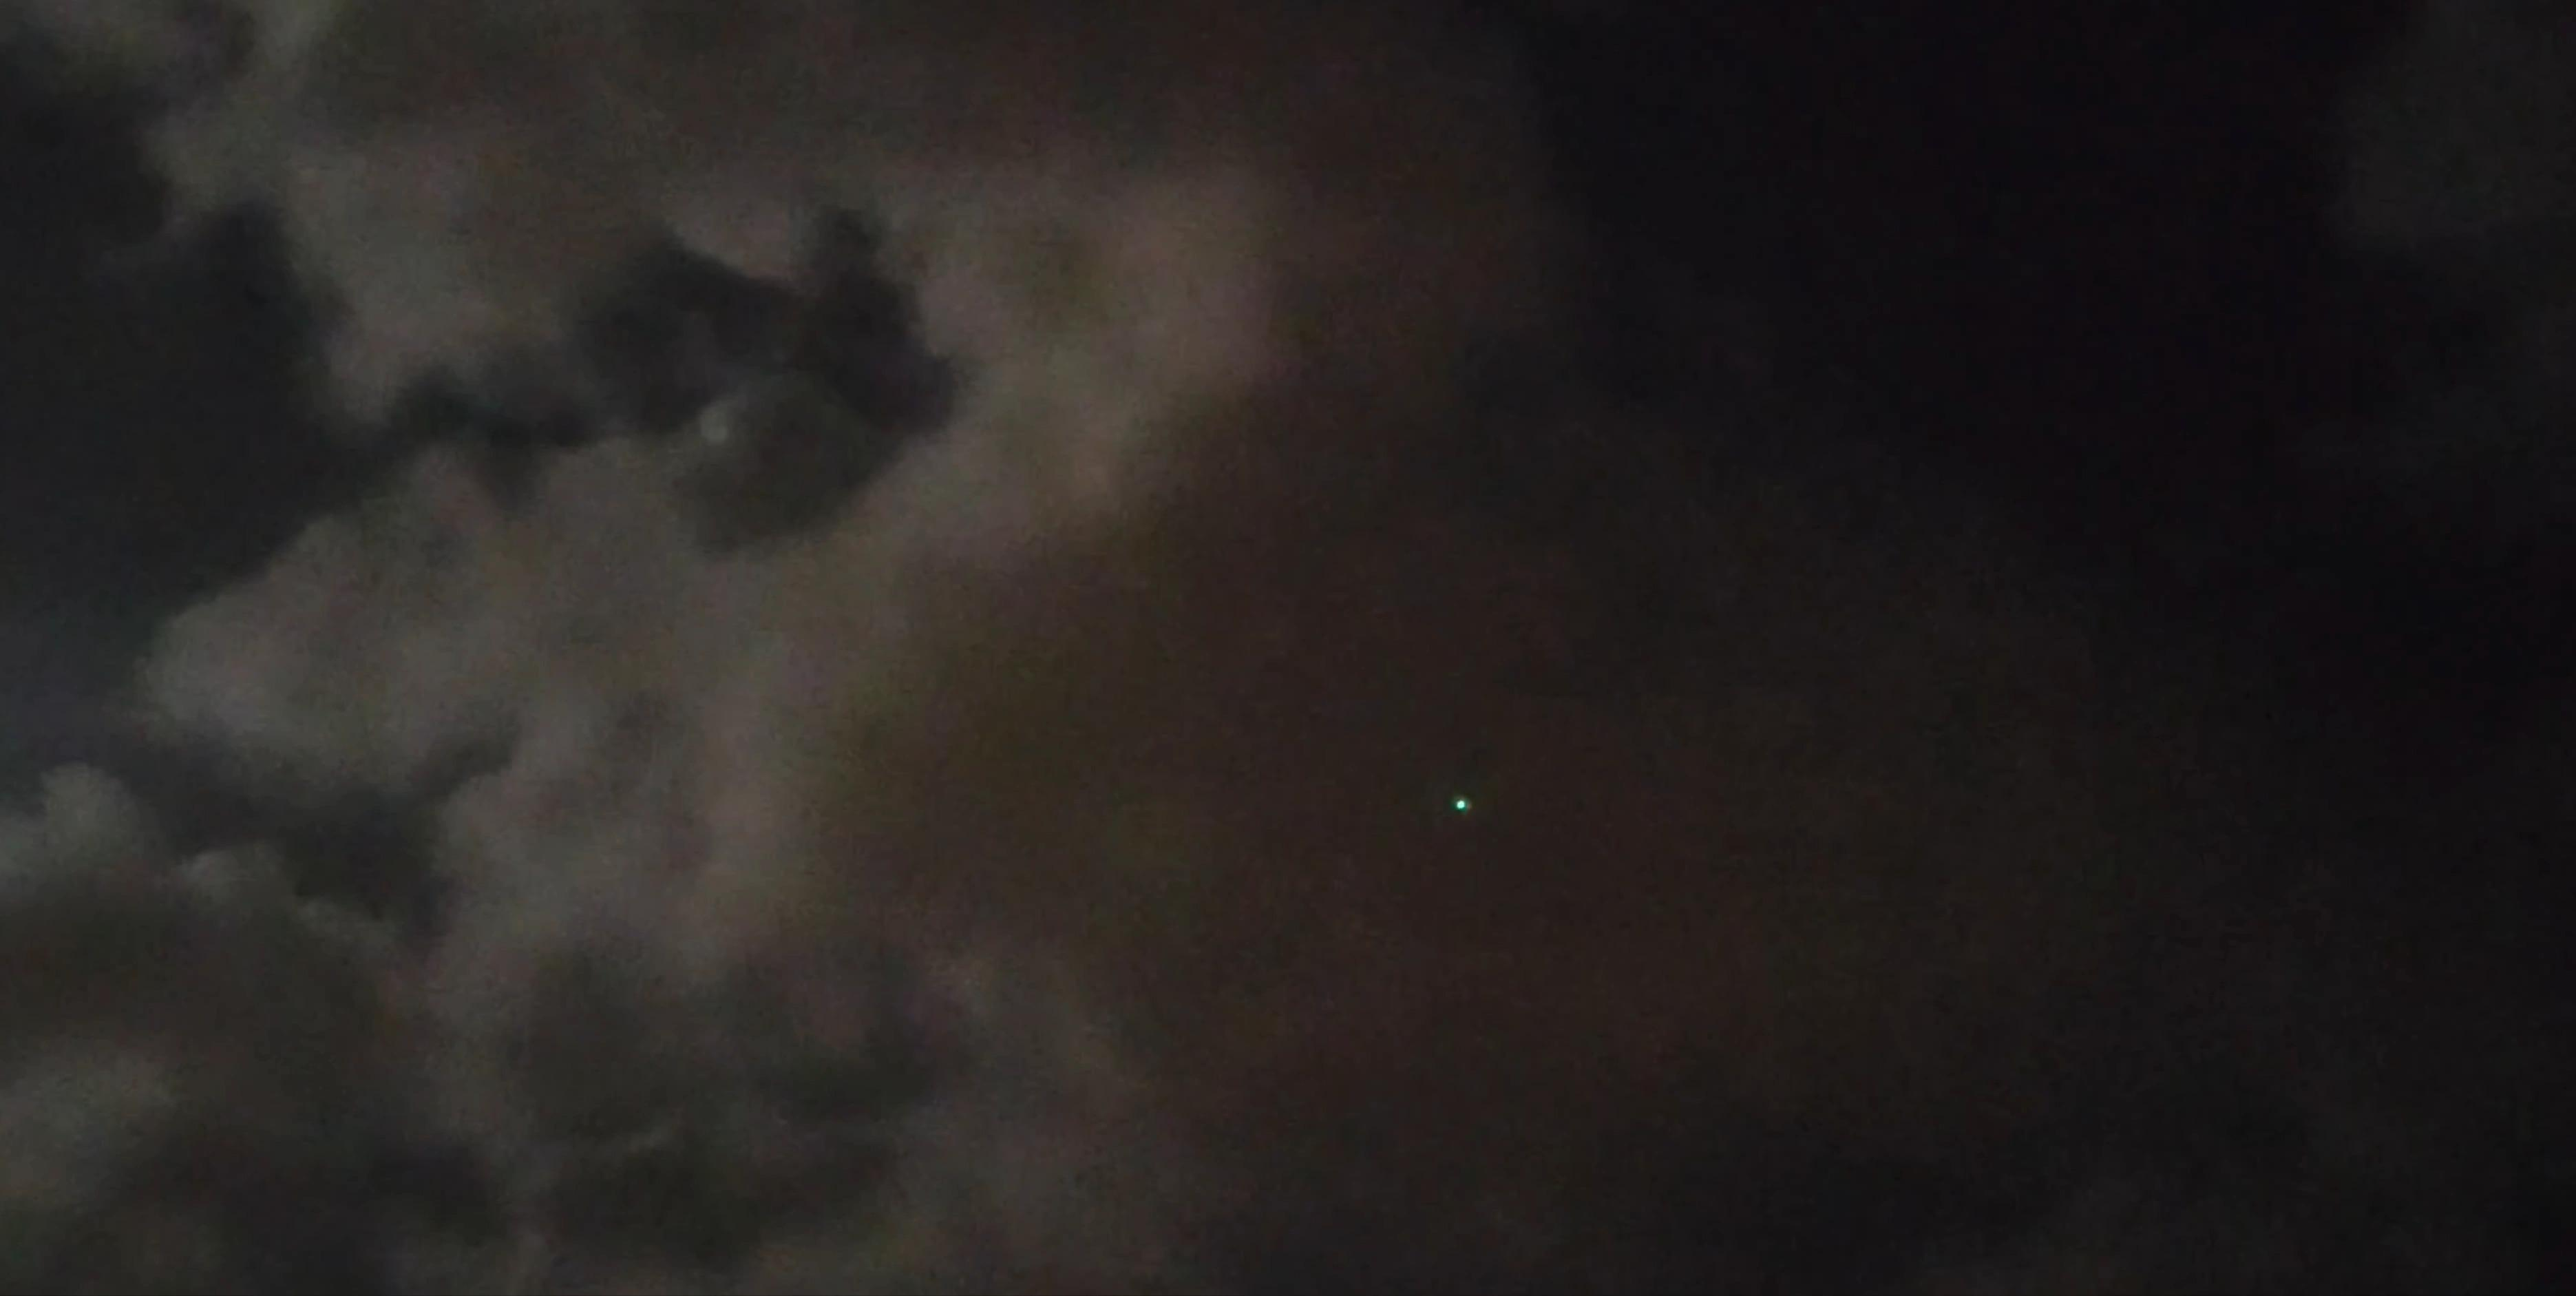Plane: (1438, 780, 1484, 831)
